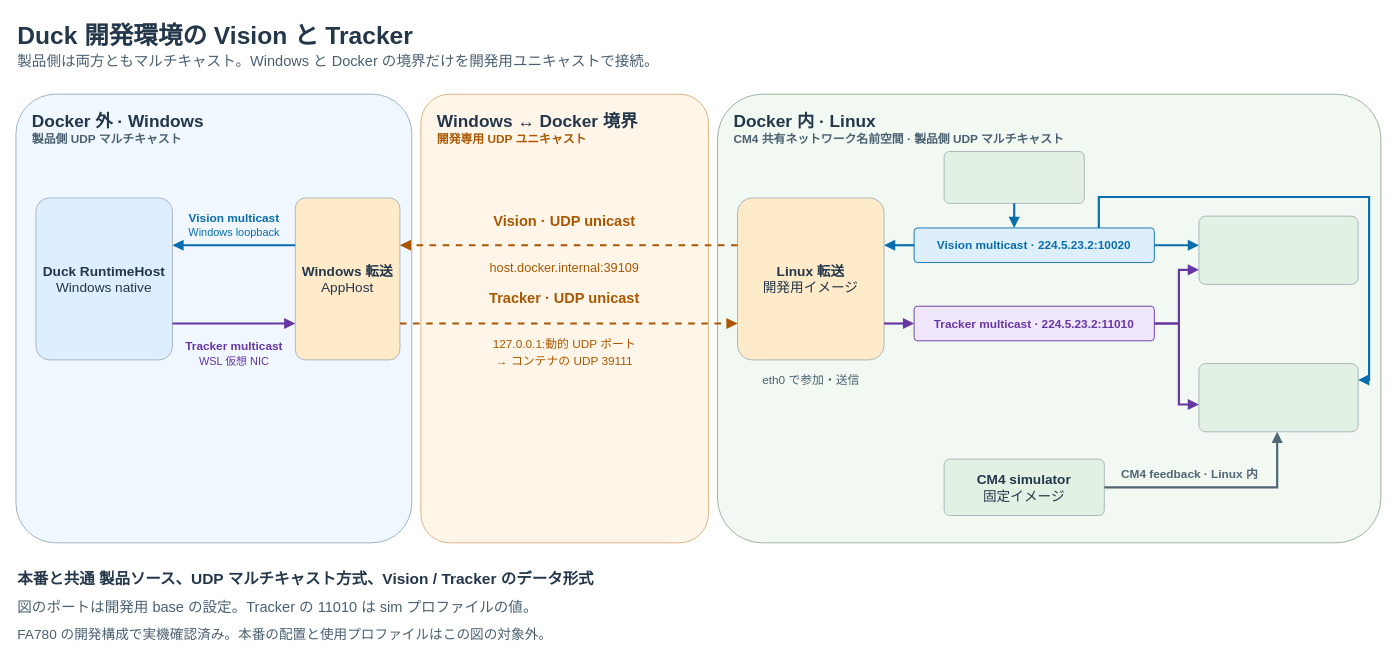
Image size: 1397x662. Some labels were removed from this diagram. The shapes that lost their labels are listed below. From the top down, each one's centre as x and y in pixels, then its label:
point (1013, 177): Simulator 固定イメージ
point (1278, 249): Game Controller 固定イメージ
point (1278, 397): Crane 固定イメージ
